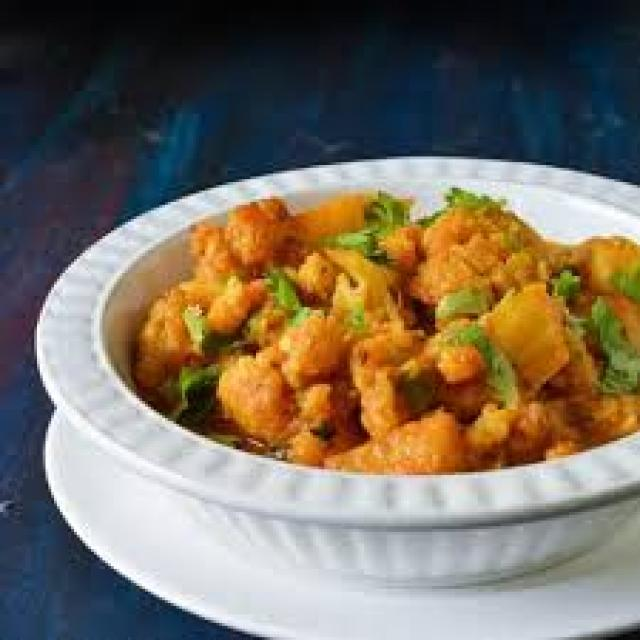Aloo Gobi: (155, 188, 616, 456)
